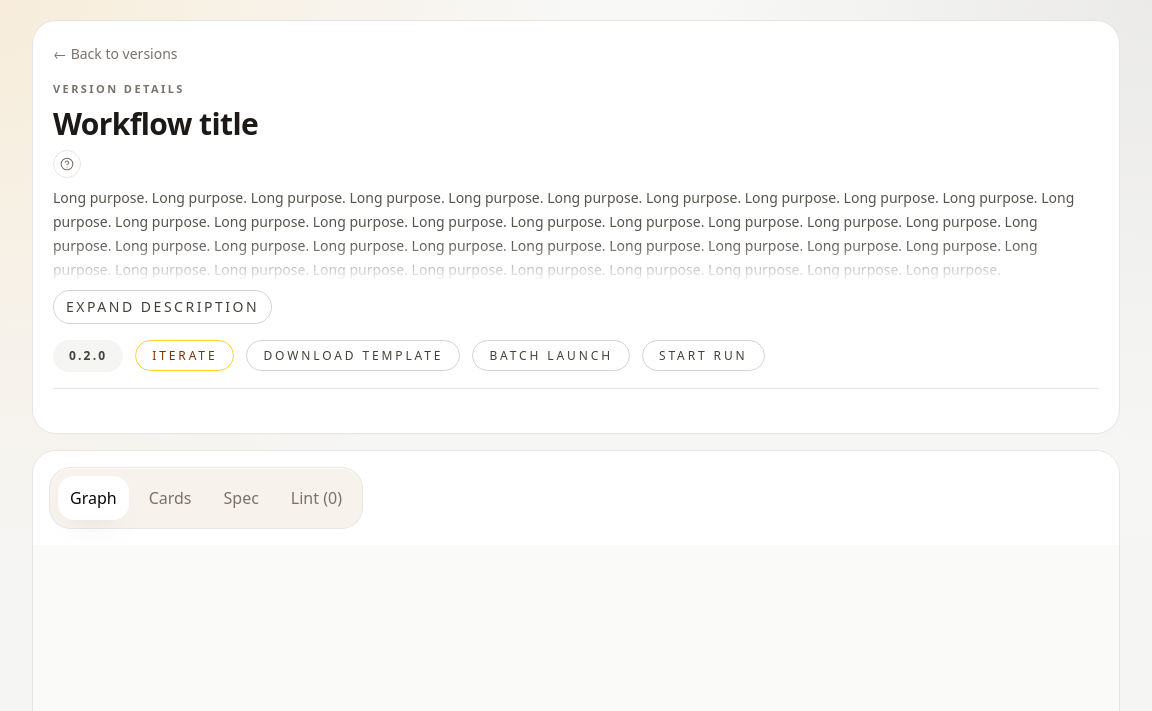
WorkflowVersionClient › collapses a long workflow purpose by default and toggles expansion
The image size is (1152, 711).
Expected: the heading "Workflow title" is shown, [53, 102, 258, 144]
Expected: the button named "Version details" is shown, [53, 150, 81, 178]
What coordinates should you click on to do the following:
click the button "Expand description"
I would click on:
 (163, 306)
Its box is [53, 290, 272, 324].
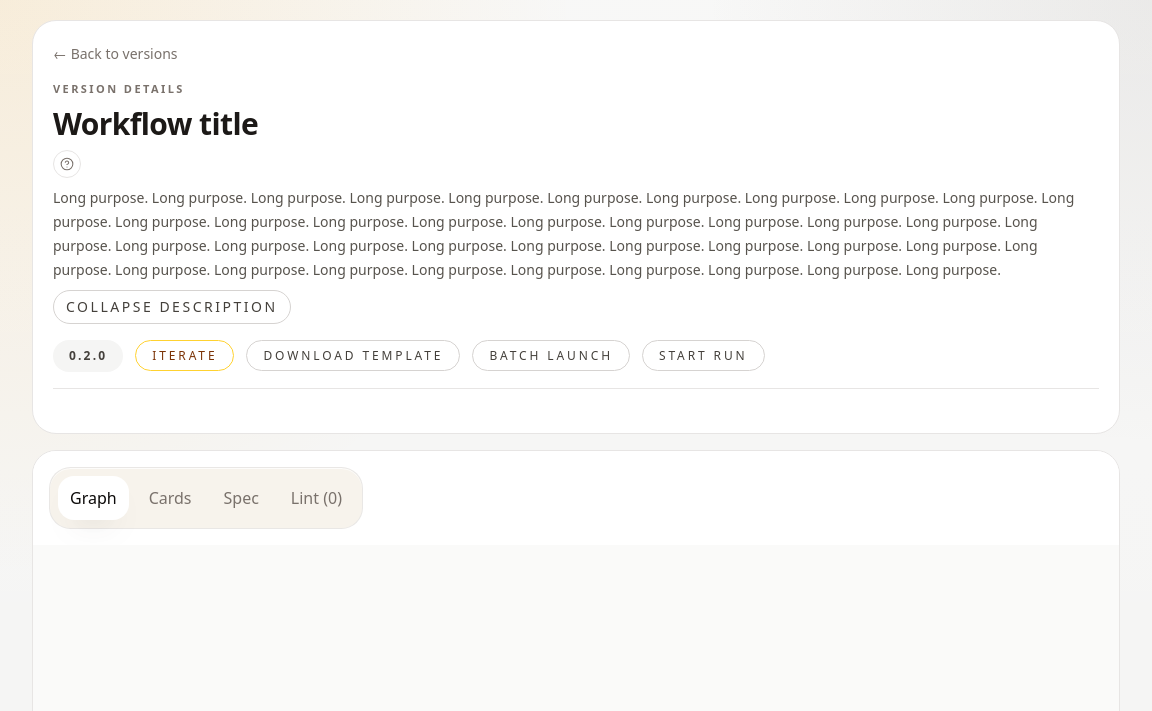
Now the button "Collapse description" is expanded
What coordinates should you click on to do the following:
click the button "Collapse description"
I would click on:
 (172, 306)
Its box is [53, 290, 291, 324].
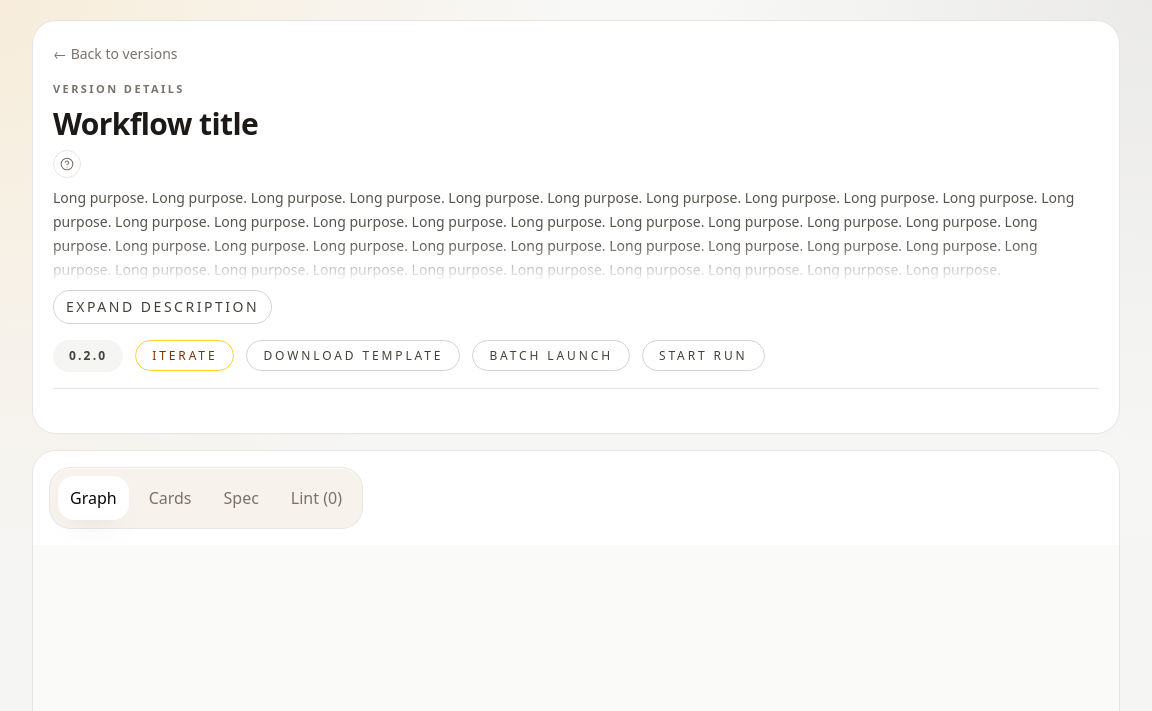
Now the button "Expand description" is collapsed, box [53, 290, 272, 324]
